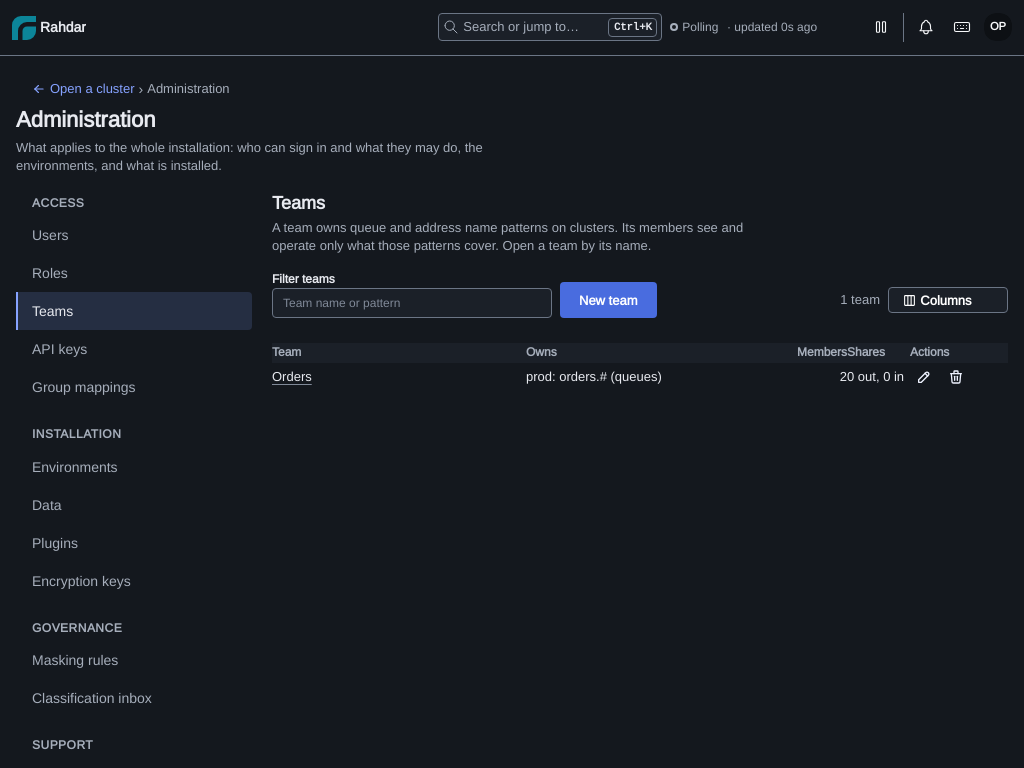
Scenario: the Teams tab › filters by name or pattern in the address, and says when the filter hides every team
The image size is (1024, 768).
Type "orders.#" into the field labelled "Filter teams" at x=412, y=303, box [272,288,552,318]
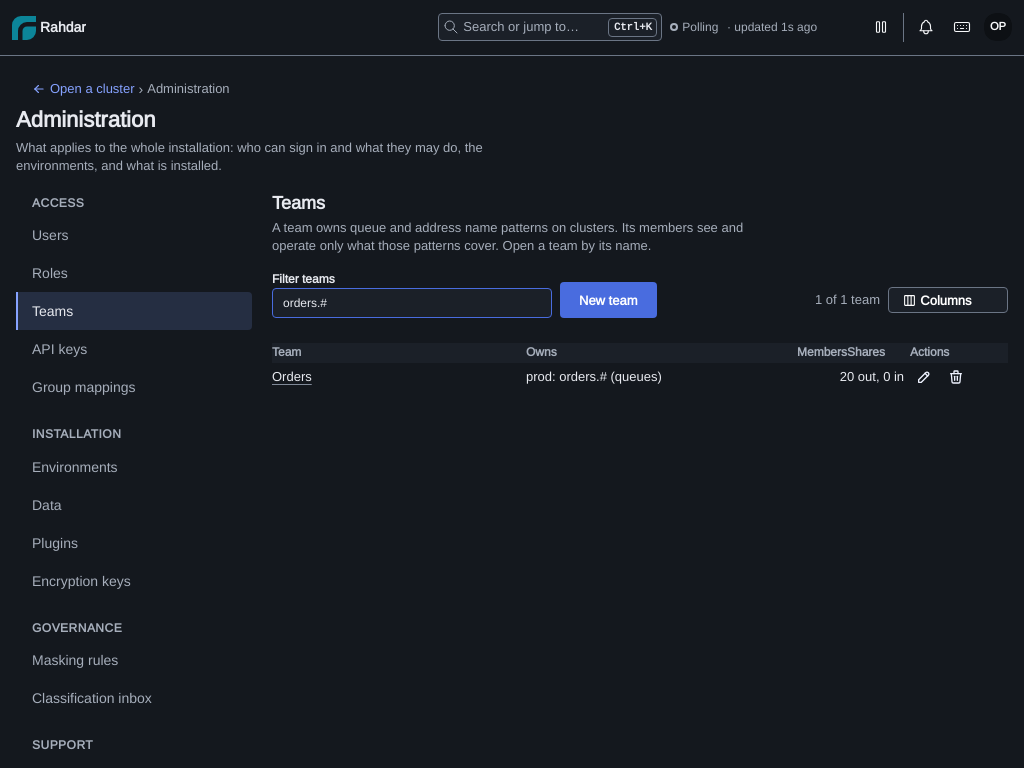
Expected: the row "Orders prod: orders.# (queues) 2 0 out, 0 in" is shown, [272,363,1008,391]
Replace the text in the field labelled "Filter teams" with "billing" at x=412, y=303, box [272,288,552,318]
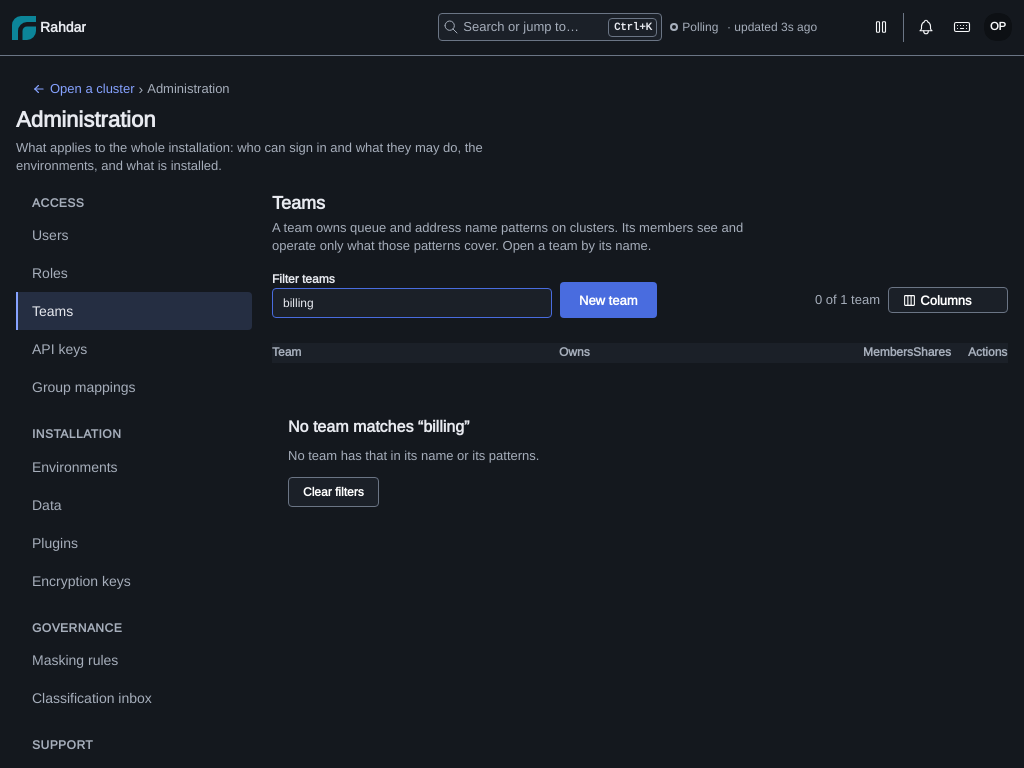
Expected: the text "No team matches “billing”" is shown, [288,415,469,439]
Click the button "Clear filters" at x=333, y=492, box [288,477,379,507]
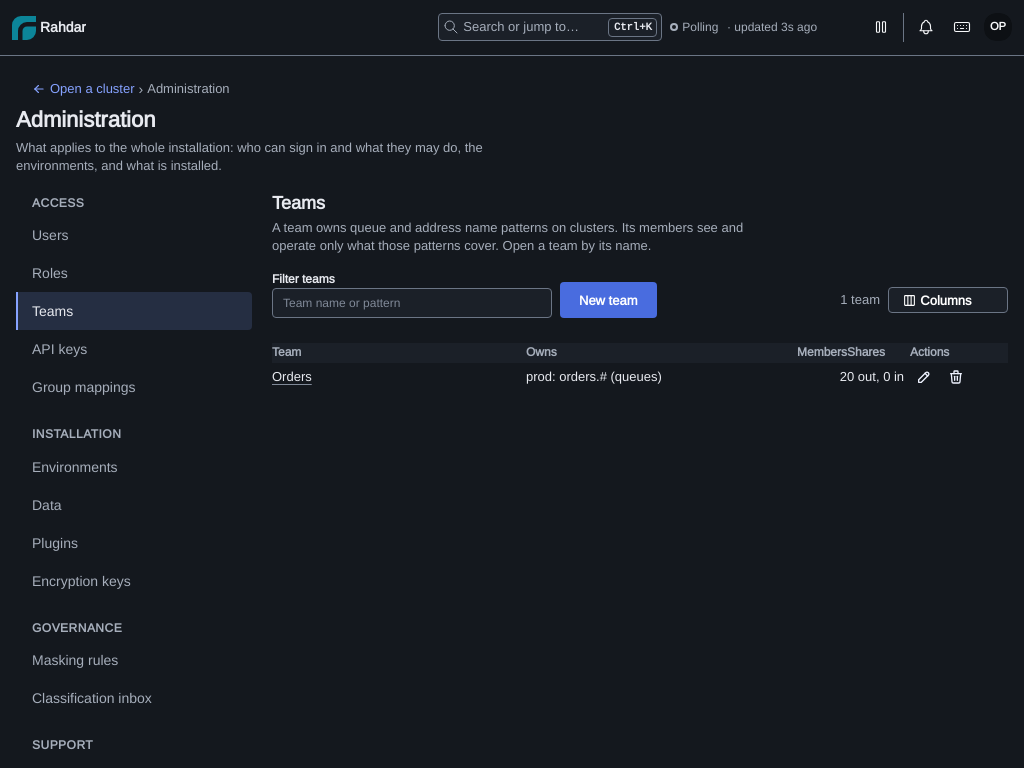
Expected: the row "Orders prod: orders.# (queues) 2 0 out, 0 in" is shown, [272,363,1008,391]
